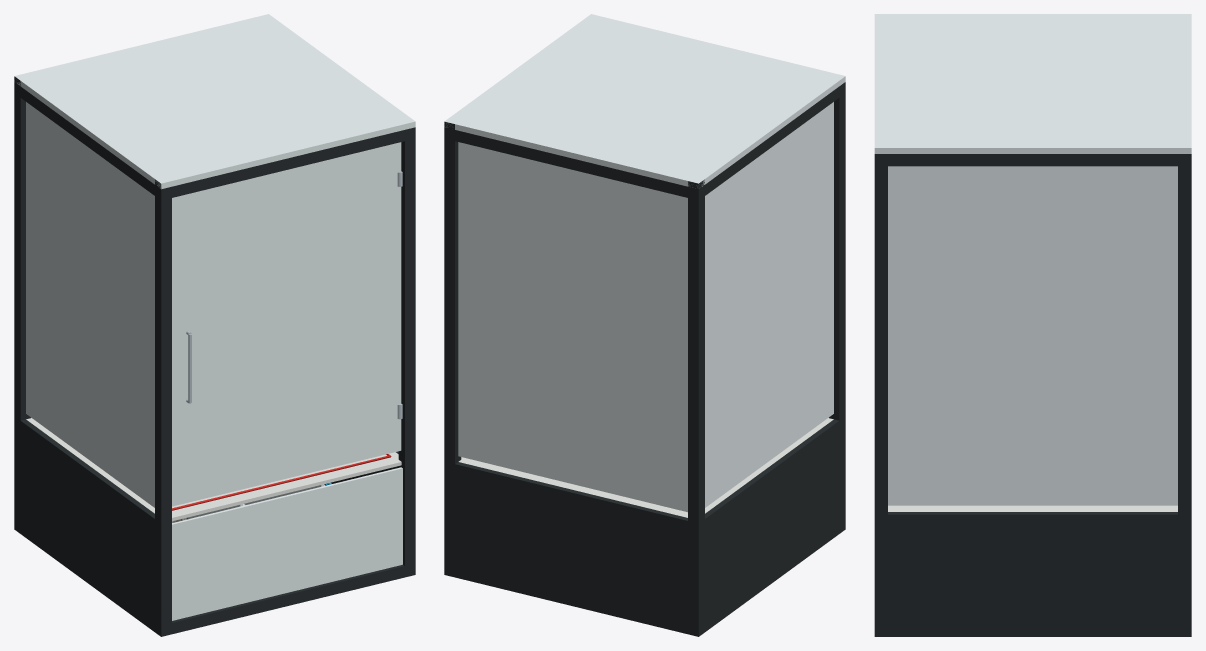
The model's file is chamber_low.glb.
The picture shows the model from 3 angles, left to right: view 1: azimuth 30°, elevation 25°; view 2: azimuth 150°, elevation 25°; view 3: azimuth 270°, elevation 25°; orthographic projection. The views are drawn at different scales.
Visible parts, largest first — view 1: MOV_Door, GLASS_Walls, EXPLODE_06, MOV_Cap, EXPLODE_05; view 2: GLASS_Walls, EXPLODE_06, MOV_Cap, EXPLODE_05; view 3: GLASS_Walls, EXPLODE_06, MOV_Cap, EXPLODE_05.
Boxes of the visible parts, x1,y1,x2,y2 form: MOV_Door: (172, 142, 401, 506); GLASS_Walls: (26, 102, 402, 620); EXPLODE_06: (14, 76, 415, 636); MOV_Cap: (14, 14, 415, 189); EXPLODE_05: (26, 418, 401, 521); GLASS_Walls: (458, 102, 833, 512); EXPLODE_06: (444, 82, 845, 636); MOV_Cap: (444, 14, 845, 188); EXPLODE_05: (458, 418, 833, 517); GLASS_Walls: (888, 166, 1177, 505); EXPLODE_06: (874, 154, 1191, 636); MOV_Cap: (874, 14, 1191, 153); EXPLODE_05: (888, 505, 1177, 511).
Size of the model in its own units: 0.47 by 0.8 by 0.47.
22 materials, 10 textured.
